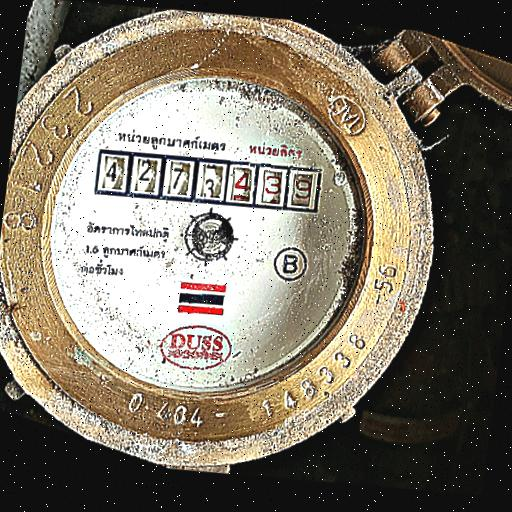2: (134, 159, 159, 194)
3: (260, 169, 283, 206), (201, 165, 223, 200)
4: (230, 168, 253, 204), (102, 157, 125, 191)
7: (168, 162, 191, 197)
9: (290, 173, 314, 206)
border_water_meter_number: (94, 141, 324, 222)
